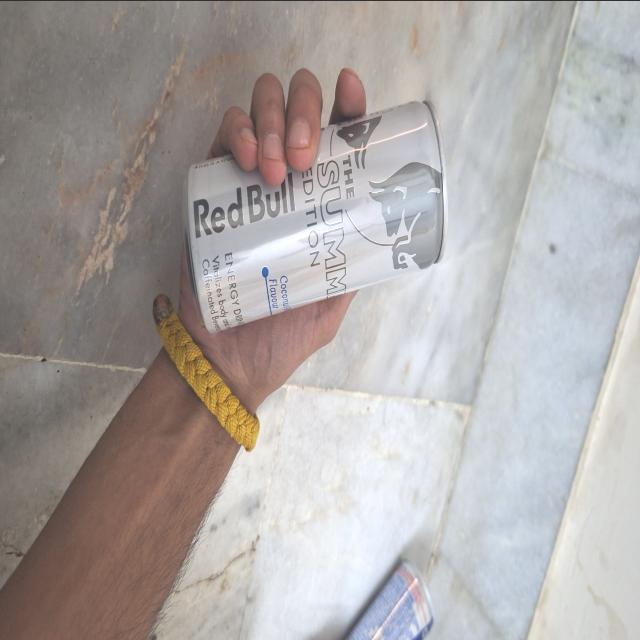Redbull Summer Edition: (184, 117, 458, 343)
